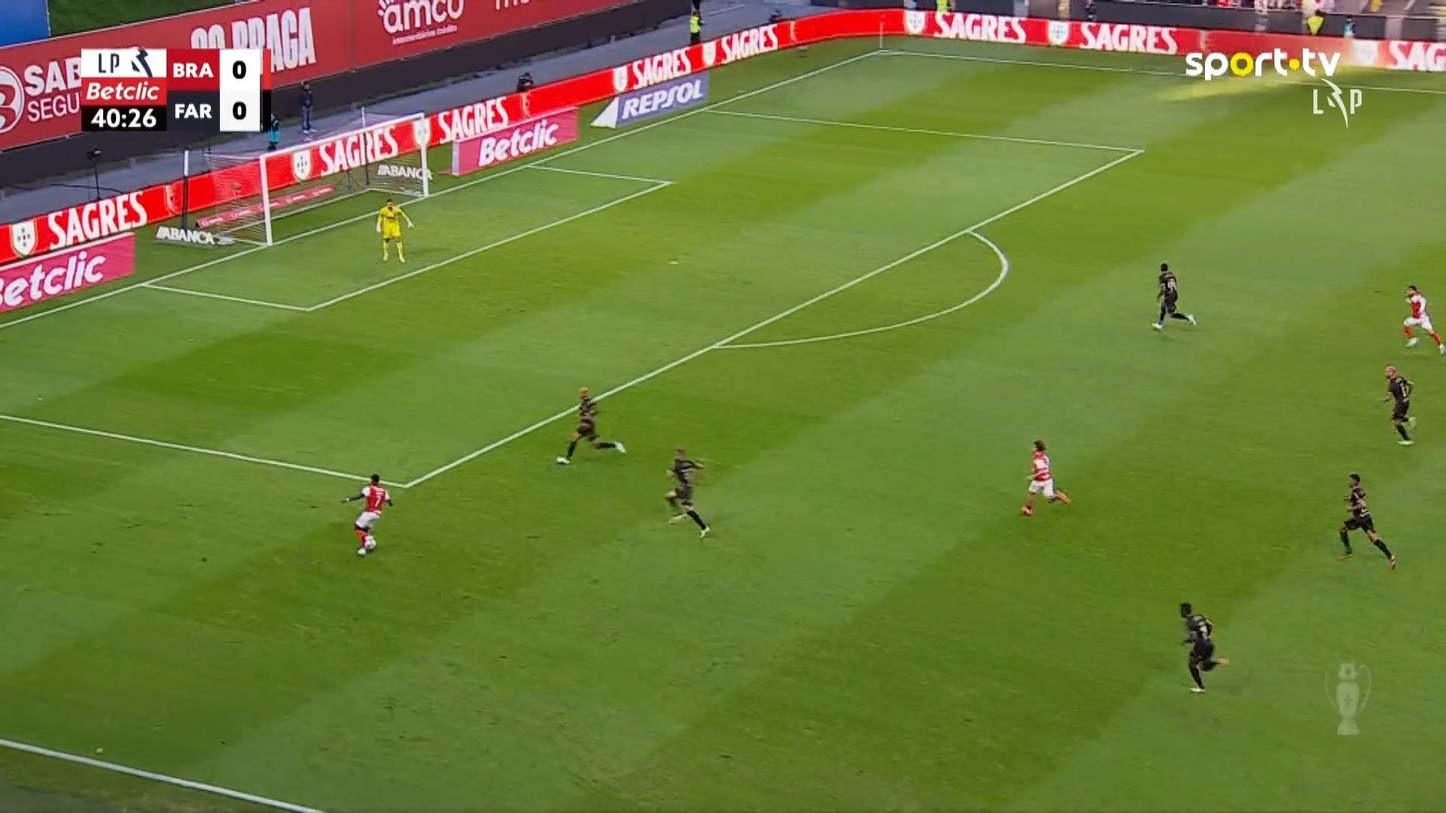ball: (364, 536, 376, 550)
goalkeeper: (374, 196, 414, 263)
player: (1336, 471, 1397, 570), (555, 385, 626, 465), (1178, 601, 1229, 693), (340, 472, 393, 556), (663, 446, 710, 538), (1020, 438, 1072, 516), (1151, 261, 1197, 330), (1401, 283, 1444, 355), (1380, 364, 1417, 445)
